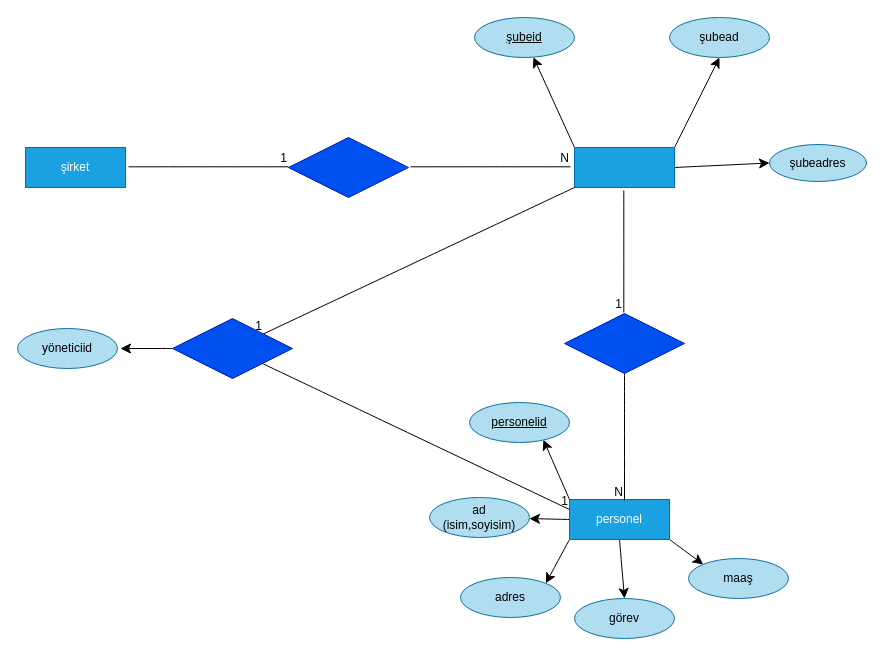
Image size: 884x656. Some labels were removed from this diagram. Each missing label, with the box of its shape:
sahip olmak: (288, 136, 408, 198)
yönetir: (172, 318, 292, 378)
çalışır: (564, 312, 684, 374)
şube: (574, 146, 674, 188)
